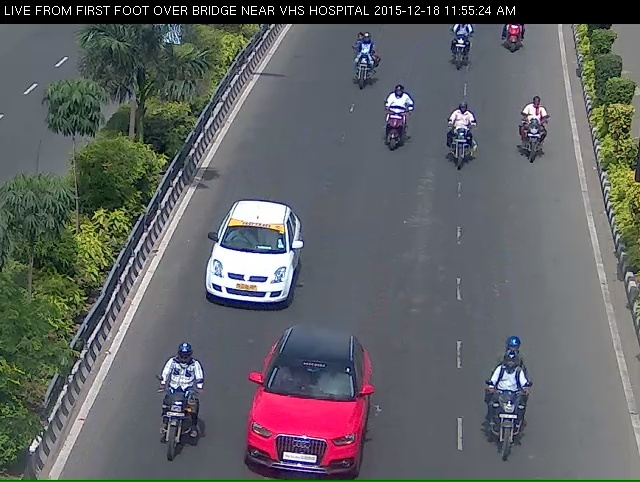Car: (236, 357, 376, 480), (185, 213, 301, 335)
Person: (474, 352, 544, 475), (142, 369, 194, 482), (432, 109, 483, 192), (377, 92, 418, 179), (514, 101, 555, 184), (443, 19, 477, 85), (343, 37, 373, 103), (498, 17, 531, 71)
